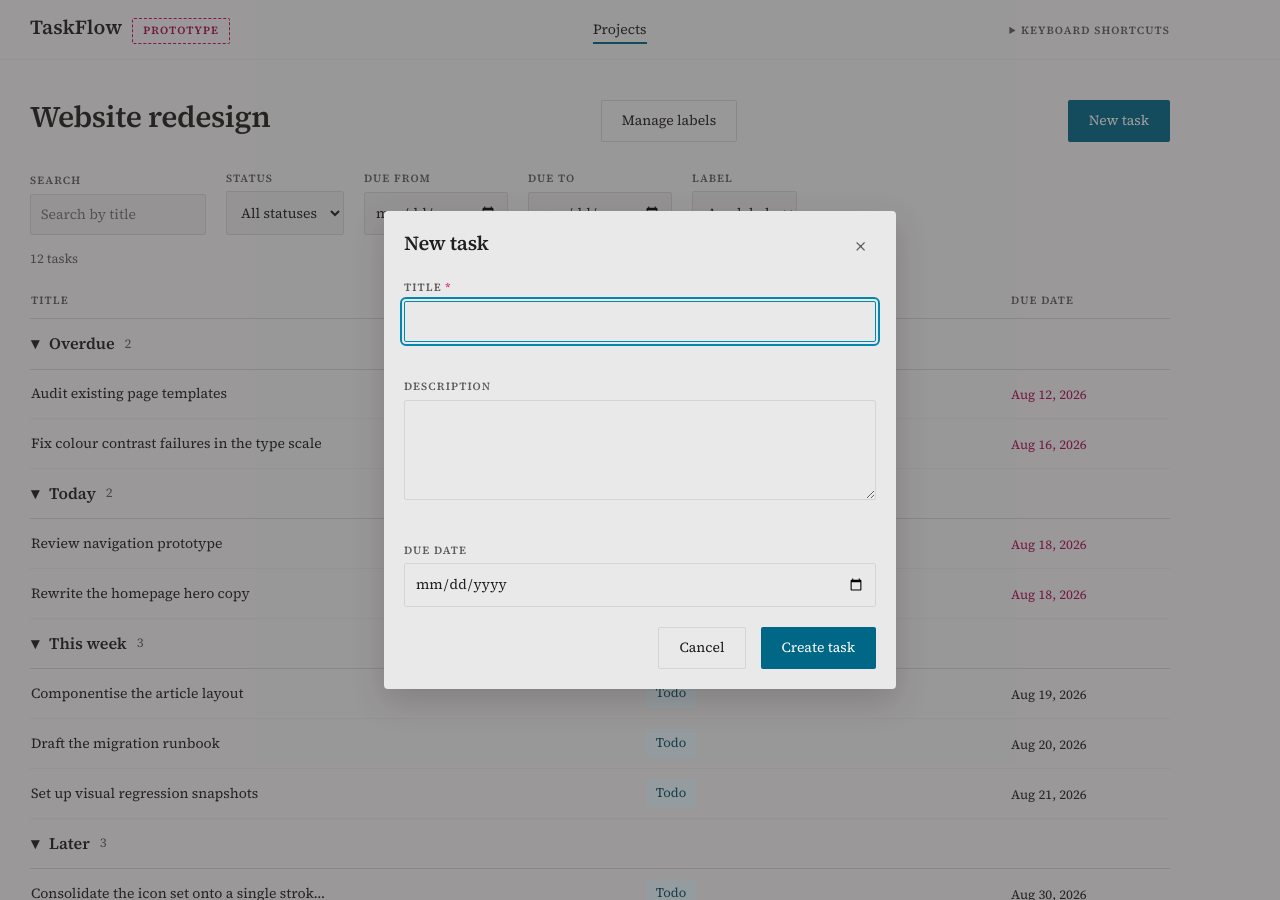
CreateTaskDialog › a 400 keeps the dialog open with per-field messages
In the field labelled "Title": (640, 321) [404, 301, 876, 342], type "Anything"
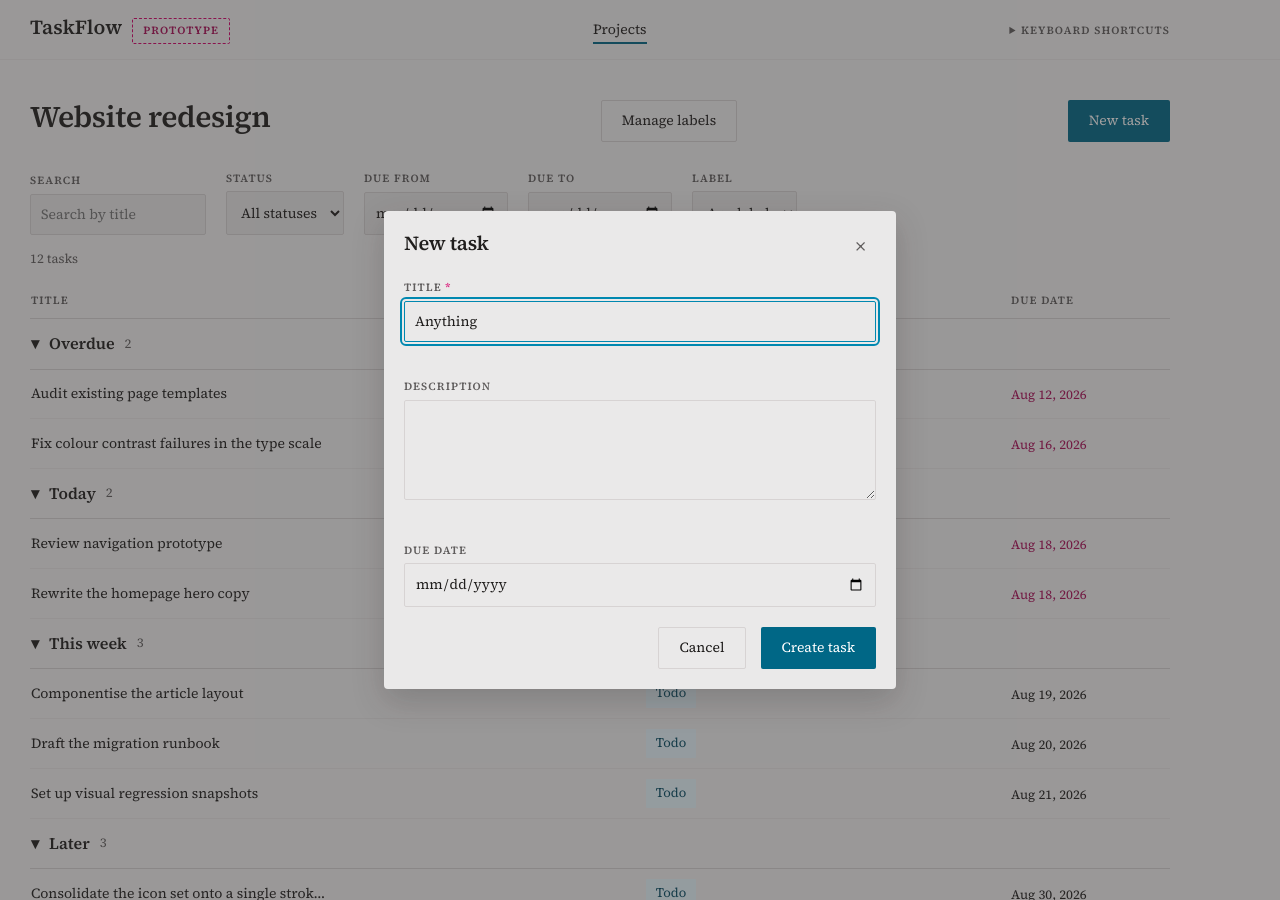
Click the button "Create task": (818, 648) [760, 627, 876, 669]
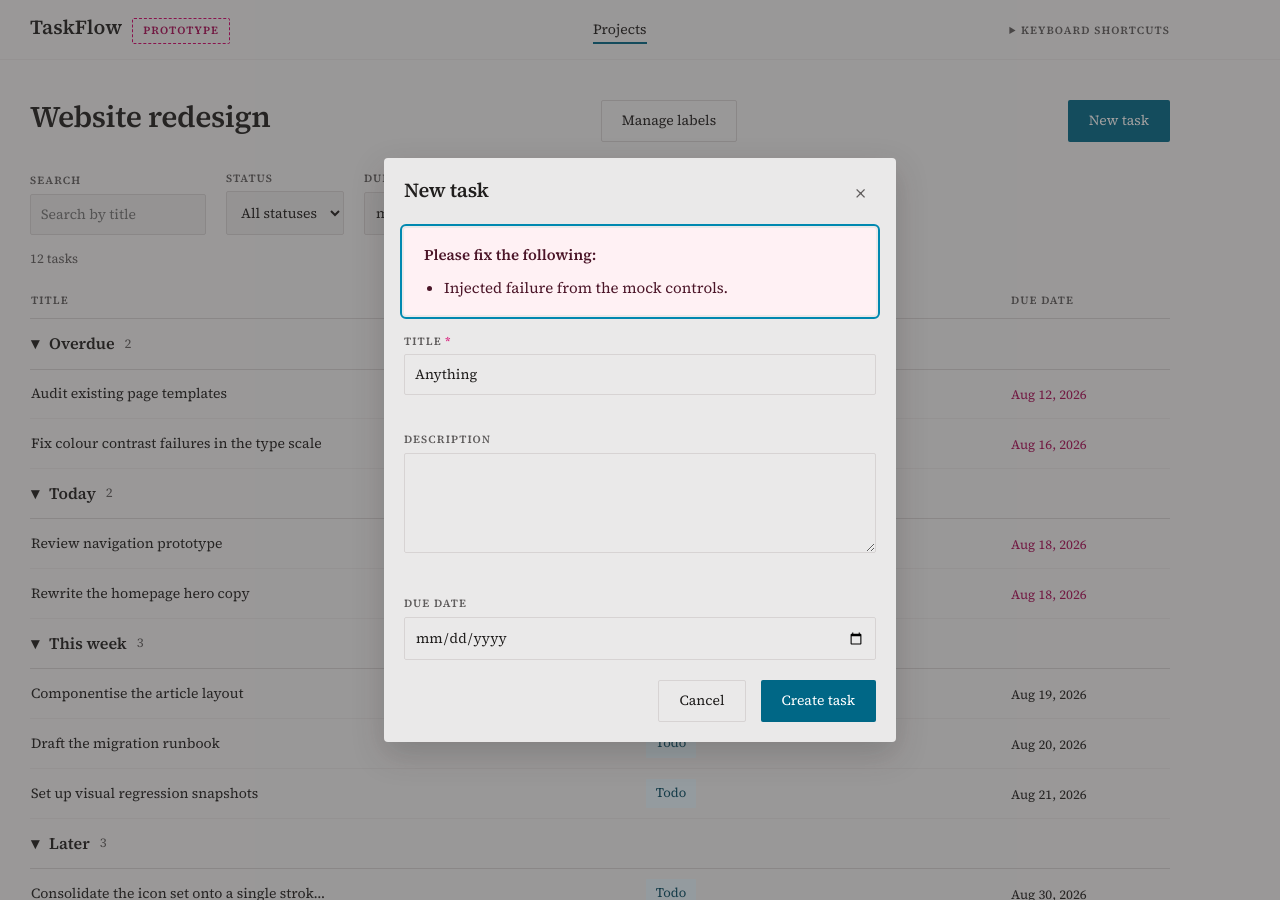
Check: the dialog is shown, box [384, 158, 896, 742]
Check: the message "Please fix the following: Injected failure from the mock controls." is shown, box [404, 228, 876, 315]
